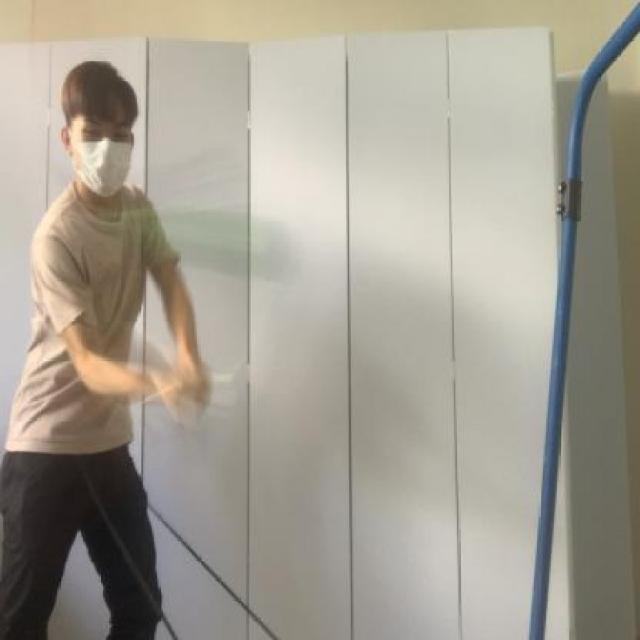baseball: (110, 194, 304, 292)
